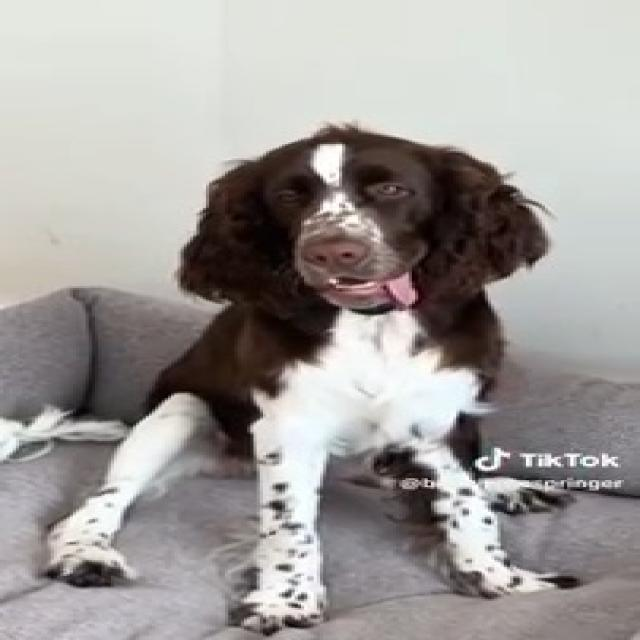dogs: (73, 126, 557, 604)
